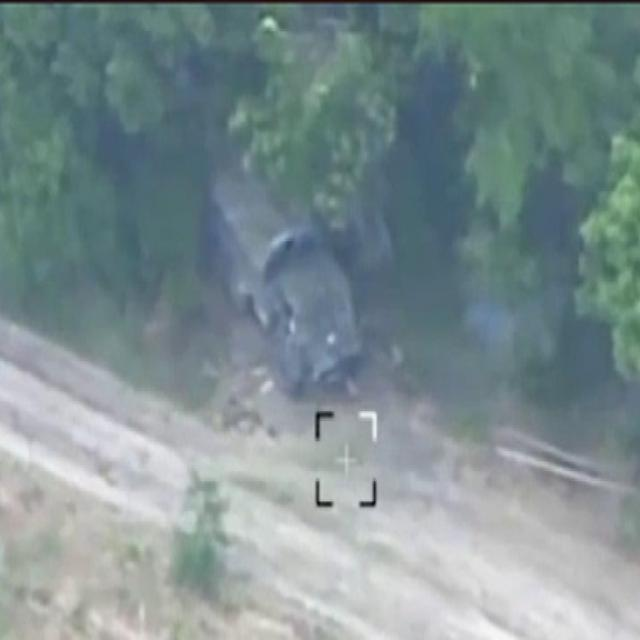TRUCK: (201, 136, 359, 391)
